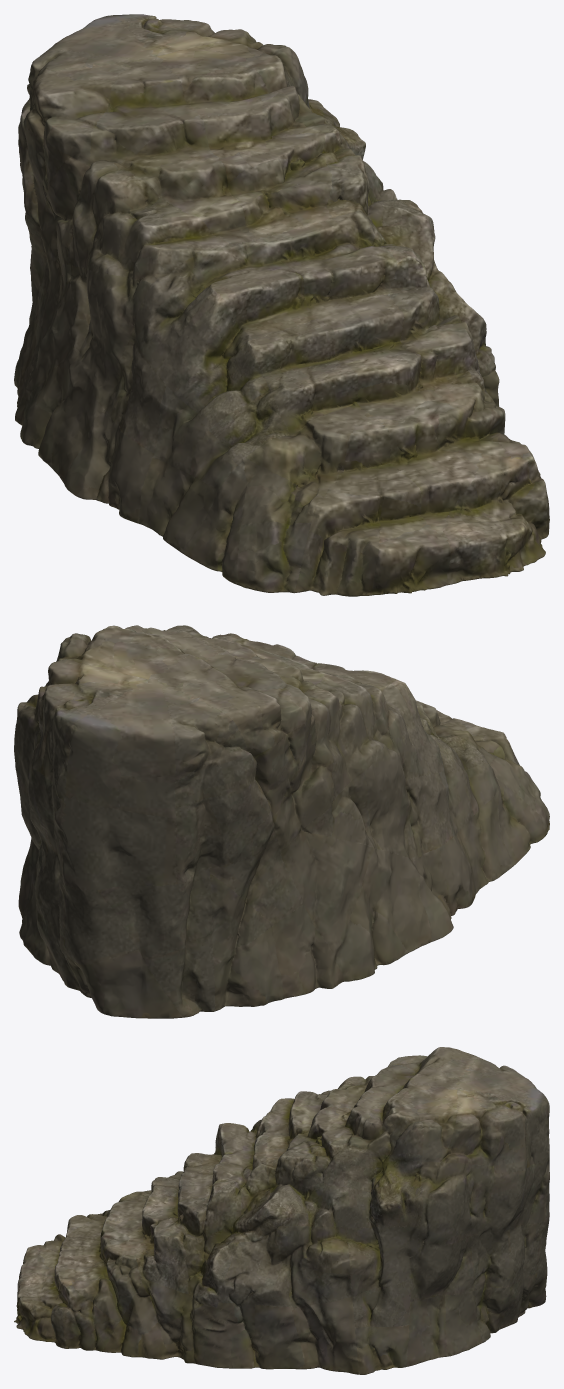
Rendered from Meshy_AI_stone_staircase_0823030631_image-to-3d-texture.glb.
3 views of the same model, one above another, from view 1: azimuth 30°, elevation 25°; view 2: azimuth 150°, elevation 25°; view 3: azimuth 270°, elevation 25° (orthographic). The views are drawn at different scales.
Visible parts, largest first — view 1: mesh_node; view 2: mesh_node; view 3: mesh_node.
Part boxes in pixels (<box>): mesh_node: <box>14,14,549,596</box>; mesh_node: <box>14,625,549,1018</box>; mesh_node: <box>14,1047,549,1374</box>.
Bounding box in the file's own units: 1.16 × 0.8697 × 1.91.
Materials: 1 (1 with a texture image).
